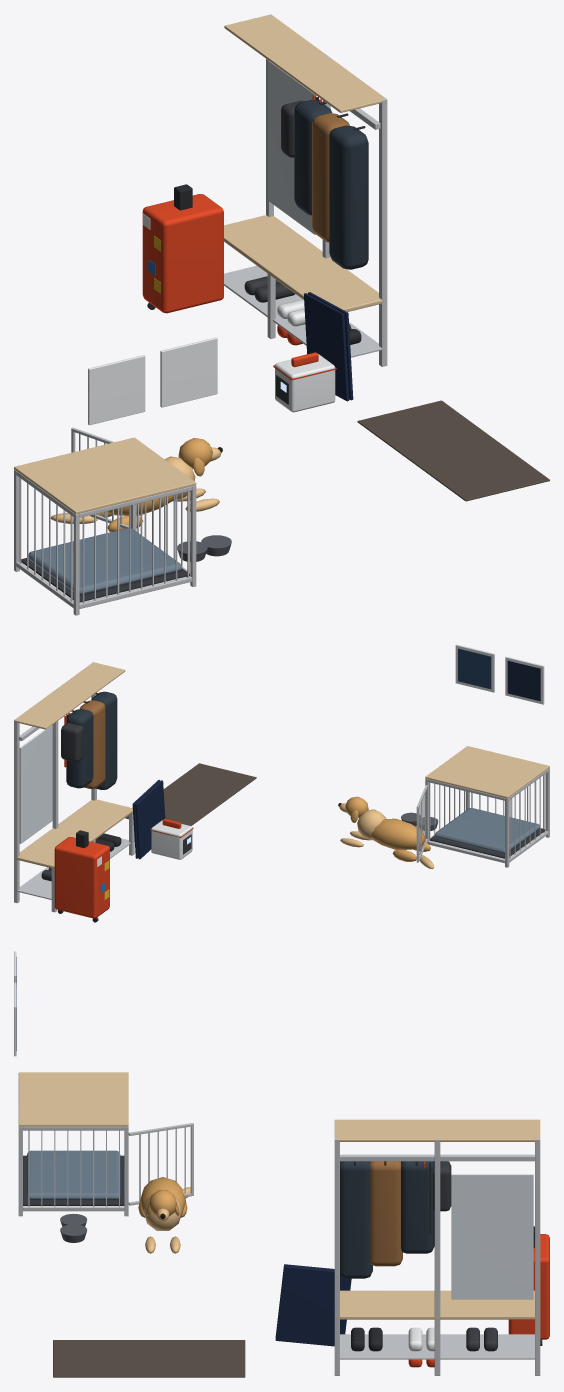
File: giris.glb
3 renders of one model, top to bottom at view 1: azimuth 30°, elevation 25°; view 2: azimuth 150°, elevation 25°; view 3: azimuth 270°, elevation 25°, orthographic. The views are drawn at different scales.
Parts seen in each view (by area): view 1: doormat, suit_body, cr_top, hl_bench, hl_top, coat0, cr_cush, hl_mirror, frame0, frame1, sp_fold0, ps_body (+9 smaller); view 2: suit_body, cr_top, doormat, hl_mirror, hl_bench, cr_cush, hl_top, coat2, sp_fold0, coat0, coat1, br_body (+13 smaller); view 3: hl_mirror, doormat, cr_top, hl_bench, hl_top, cr_cush, sp_fold1, hl_shoe, coat0, coat1, coat2, hl_postb1 (+10 smaller).
Part boxes in pixels (left/top/right/bottom): doormat: left=357, top=400, right=549, bottom=501; suit_body: left=142, top=194, right=223, bottom=313; cr_top: left=14, top=437, right=196, bottom=514; hl_bench: left=224, top=215, right=386, bottom=311; hl_top: left=224, top=15, right=386, bottom=112; coat0: left=329, top=125, right=368, bottom=269; cr_cush: left=28, top=528, right=181, bottom=595; hl_mirror: left=268, top=61, right=316, bottom=234; frame0: left=88, top=355, right=145, bottom=425; frame1: left=160, top=337, right=217, bottom=407; sp_fold0: left=303, top=293, right=349, bottom=401; ps_body: left=275, top=354, right=335, bottom=412; suit_body: left=54, top=837, right=109, bottom=918; cr_top: left=425, top=746, right=549, bottom=798; doormat: left=125, top=763, right=256, bottom=825; hl_mirror: left=19, top=725, right=52, bottom=843; hl_bench: left=14, top=799, right=132, bottom=868; cr_cush: left=435, top=808, right=539, bottom=854; hl_top: left=15, top=662, right=125, bottom=729; coat2: left=66, top=709, right=93, bottom=788; sp_fold0: left=135, top=780, right=165, bottom=859; coat0: left=91, top=691, right=117, bottom=789; coat1: left=79, top=700, right=105, bottom=788; br_body: left=371, top=818, right=425, bottom=850; hl_mirror: left=451, top=1174, right=533, bottom=1299; doormat: left=53, top=1340, right=245, bottom=1377; cr_top: left=18, top=1072, right=128, bottom=1126; hl_bench: left=335, top=1290, right=539, bottom=1319; hl_top: left=334, top=1119, right=540, bottom=1141; cr_cush: left=27, top=1150, right=120, bottom=1200; sp_fold1: left=275, top=1266, right=351, bottom=1346; hl_shoe: left=340, top=1334, right=534, bottom=1359; coat0: left=340, top=1161, right=372, bottom=1278; coat1: left=370, top=1161, right=402, bottom=1266; coat2: left=401, top=1161, right=434, bottom=1253; hl_postb1: left=434, top=1137, right=440, bottom=1375.
Bounding box in the file's own units: 3.68 × 1.9 × 3.91.
